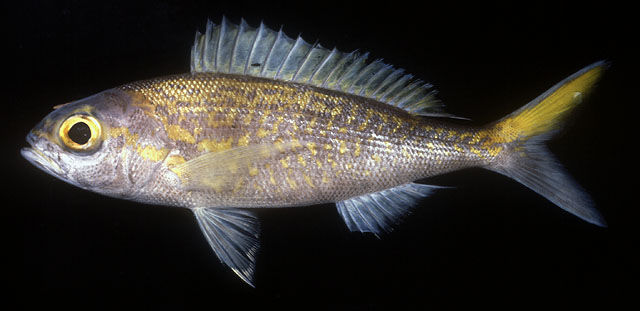fish: (20, 14, 607, 289)
